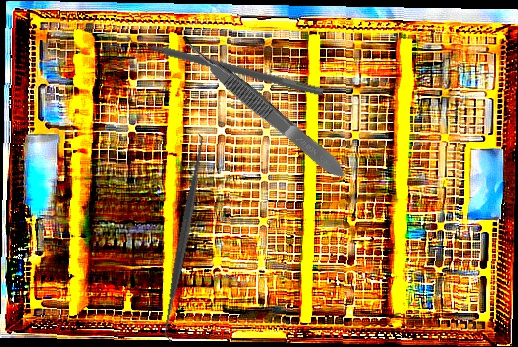Spatula Surgical: (123, 29, 327, 97), (152, 132, 216, 343)
Tissue Forceps: (179, 32, 351, 185)
